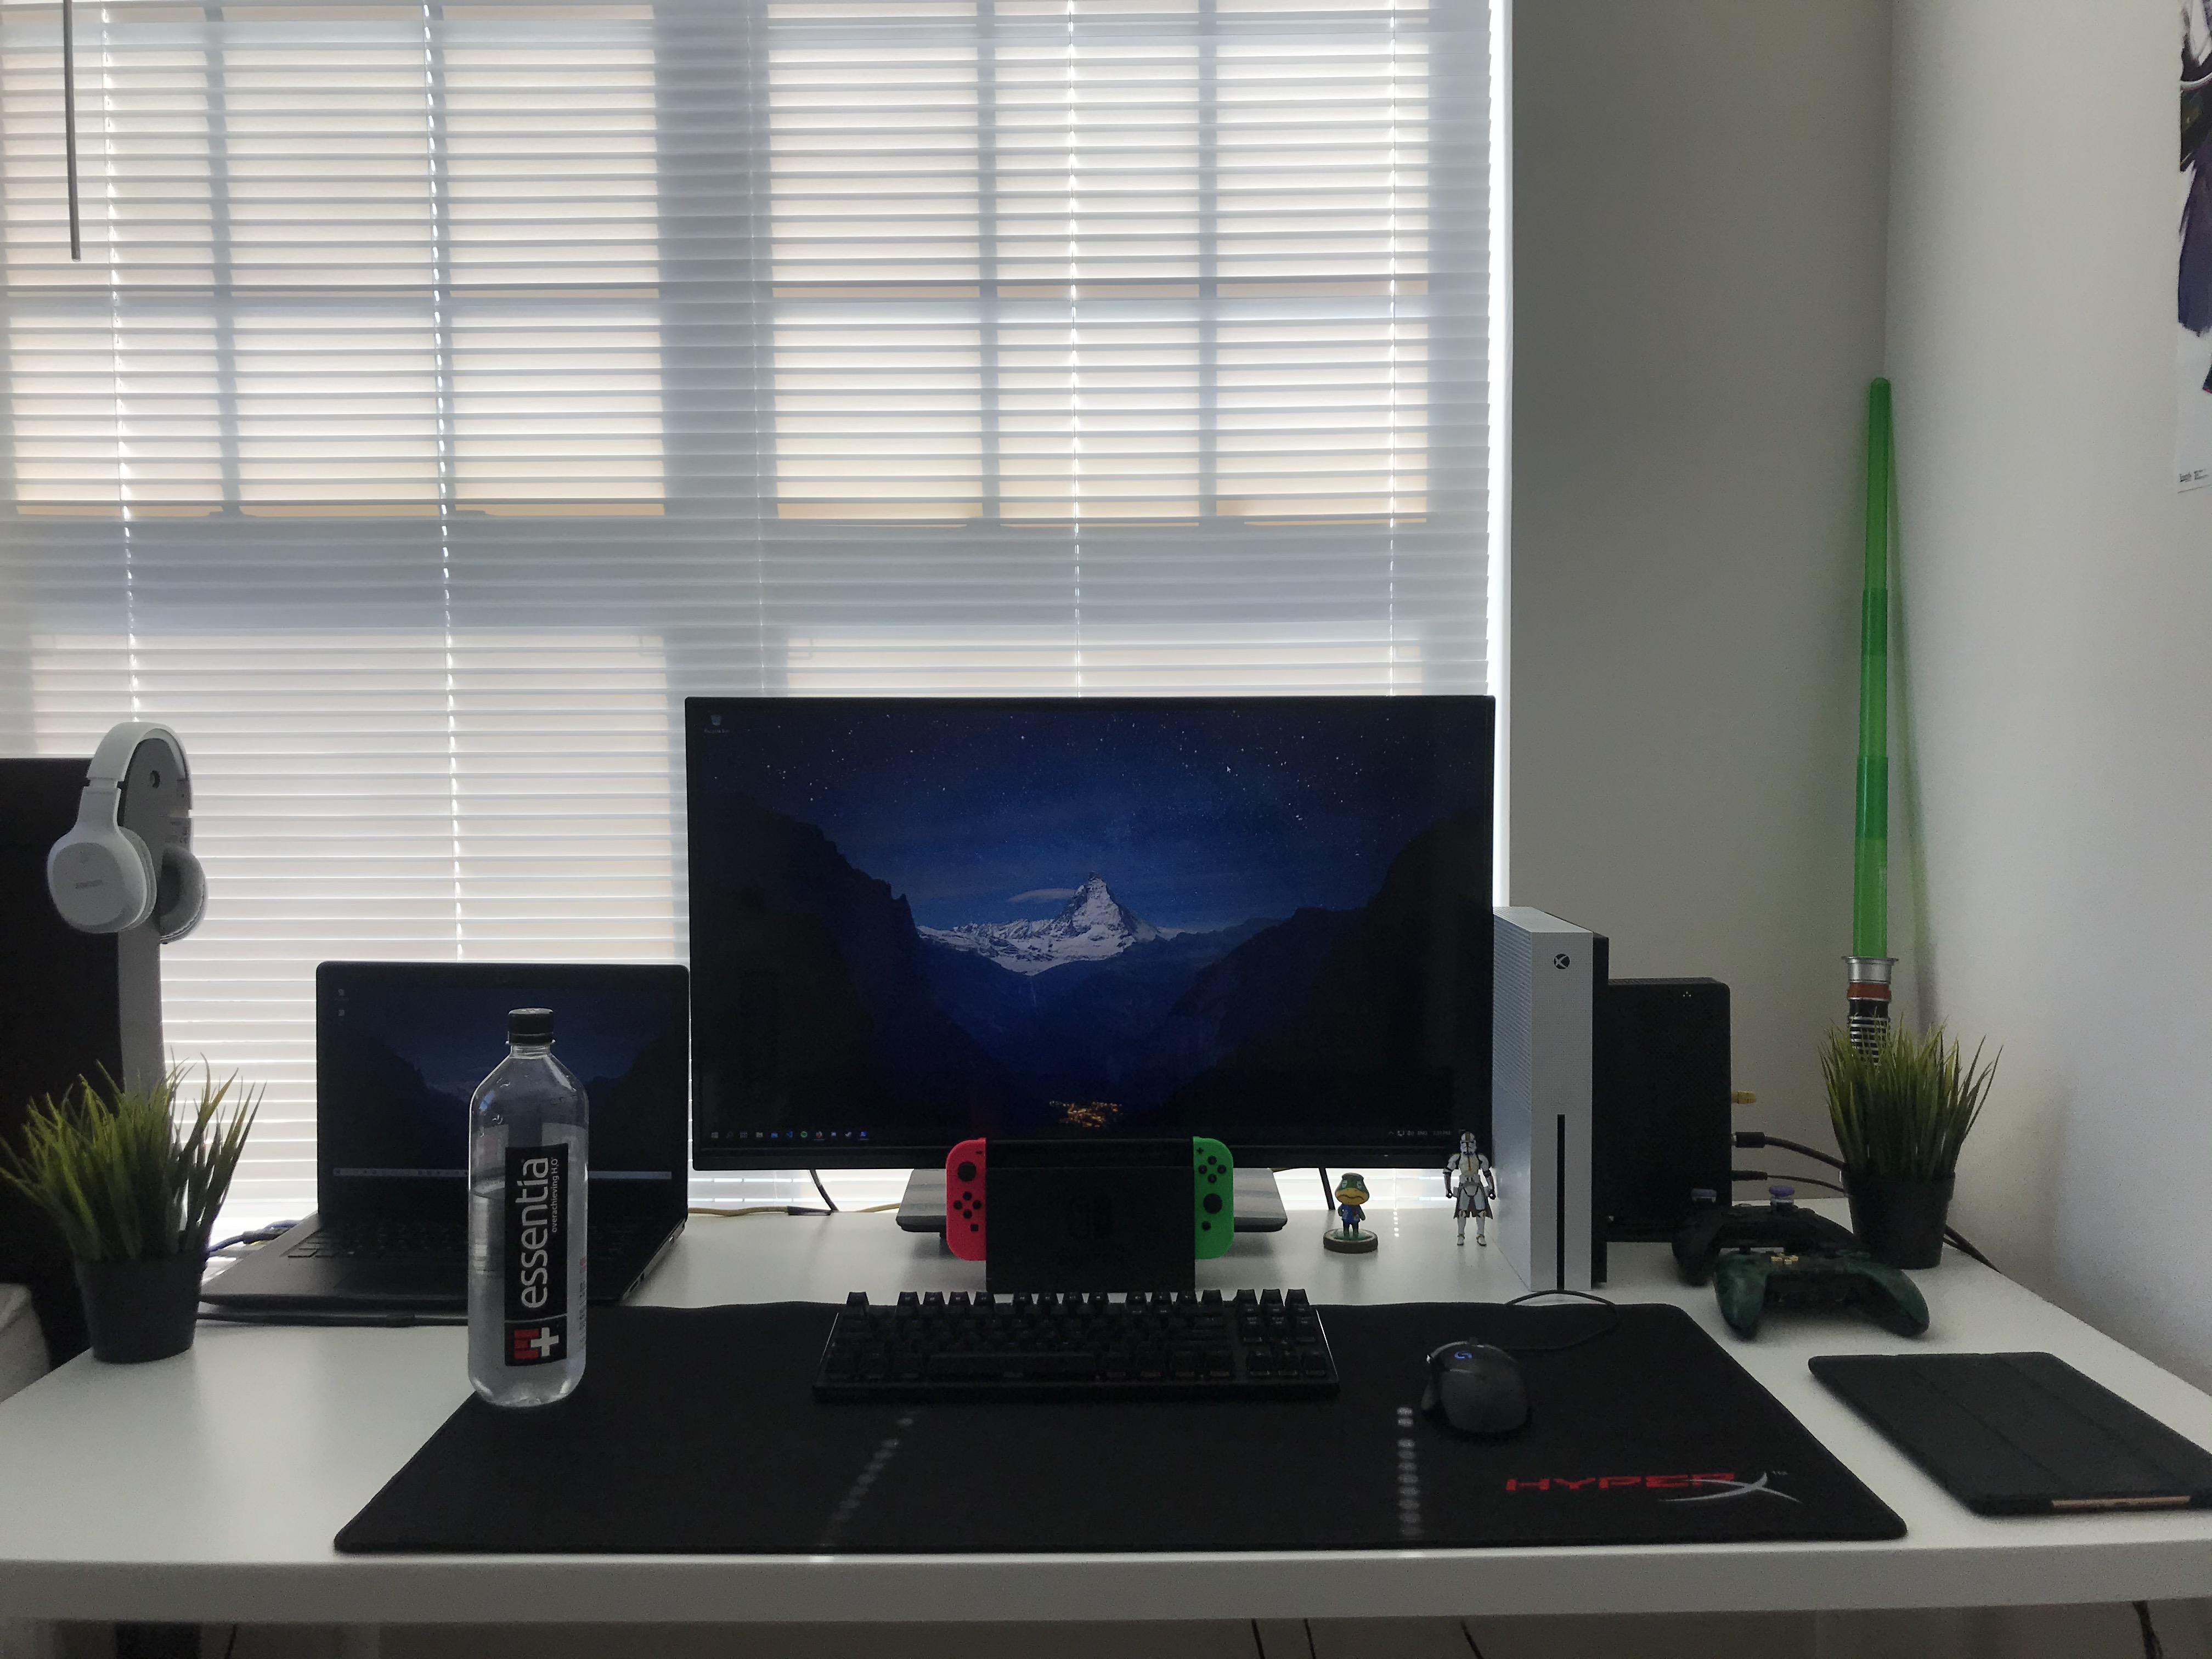Decoration (Generic): (1839, 376, 1893, 1061)
Decoration (Miniature): (1442, 1131, 1496, 1246), (1324, 1175, 1379, 1256)
Decoration (Plant): (0, 1046, 266, 1363), (1817, 1018, 2003, 1267)
Desk (Generic): (5, 1216, 2212, 1659)
Gaming Console: (1491, 901, 1608, 1304), (946, 1134, 1235, 1291)
Gaming Controller: (1714, 1239, 1928, 1340), (1669, 1187, 1857, 1288)
Headphones: (45, 720, 211, 951)
Keyboard (Generic): (810, 1290, 1341, 1399)
Laptop (Windows): (199, 957, 688, 1307)
Monitor (Landscape): (681, 695, 1500, 1166)
Mouse (Gaming): (1420, 1337, 1526, 1439)
Mousepad (Gaming): (333, 1302, 1905, 1553)
Router: (1609, 976, 1730, 1241)
Tablet (iPad): (1808, 1347, 2212, 1518)
Water Bottle: (465, 1004, 590, 1419)
